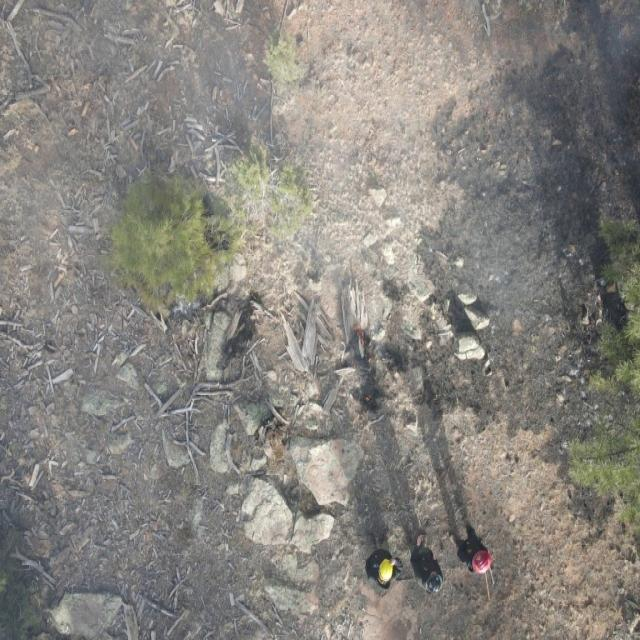fire: (352, 323, 376, 368), (362, 393, 373, 406)
smoke: (0, 0, 640, 364), (0, 364, 274, 640)
